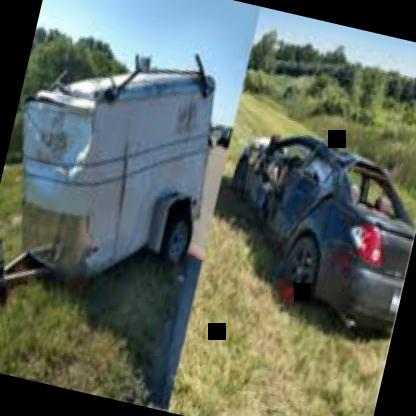accident: (200, 108, 416, 368)
